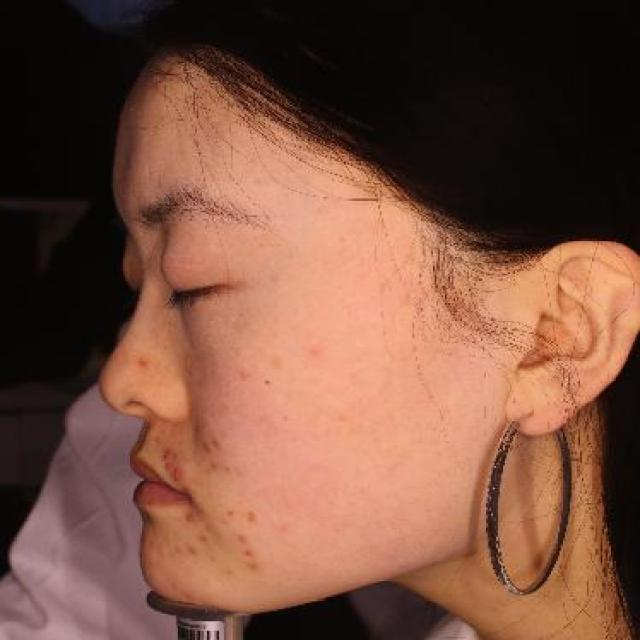dark spot: (233, 531, 265, 571), (204, 456, 243, 482), (162, 536, 185, 564), (233, 362, 258, 384), (156, 442, 180, 464), (178, 508, 200, 529), (222, 500, 242, 523), (184, 540, 203, 562), (210, 432, 230, 451), (134, 354, 152, 372), (245, 506, 258, 528)
papules: (168, 463, 188, 483)
